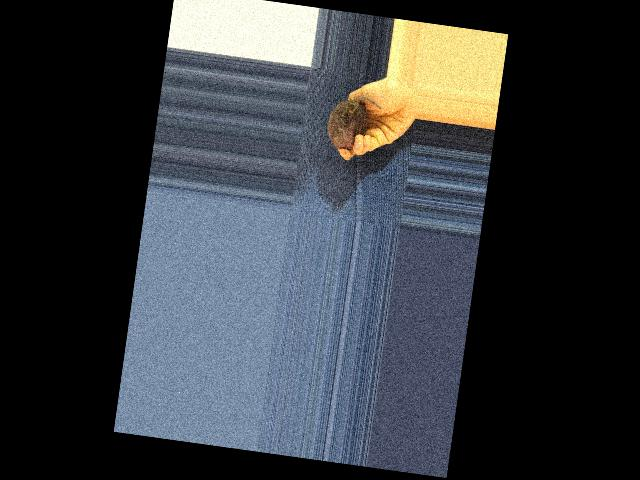beet: (325, 92, 383, 153)
